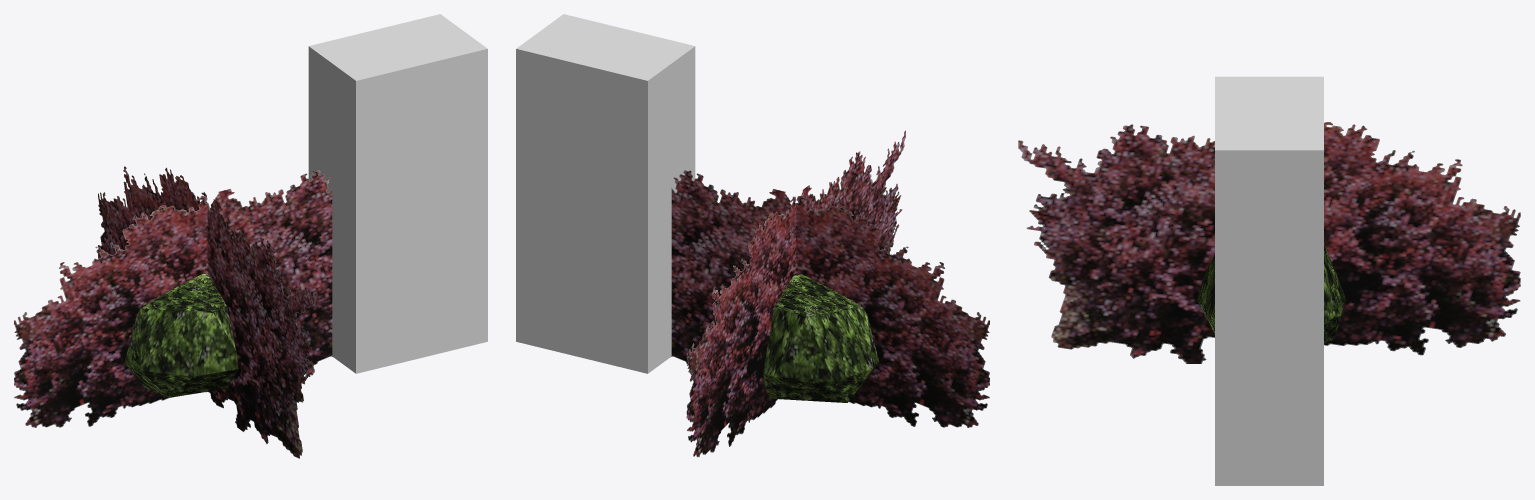
Rendered from bush3.fbx.
3 renders of one model, left to right at view 1: azimuth 30°, elevation 25°; view 2: azimuth 150°, elevation 25°; view 3: azimuth 270°, elevation 25°, orthographic. The views are drawn at different scales.
Visible parts, largest first — view 1: Cube.001, Cube, Icosphere; view 2: Cube.001, Cube, Icosphere; view 3: Cube, Cube.001, Icosphere.
Boxes of the visible parts, box(x1,y1,x2,y2) form: Cube.001: box(308, 14, 487, 373); Cube: box(14, 166, 332, 458); Icosphere: box(124, 273, 238, 397); Cube.001: box(516, 14, 695, 373); Cube: box(671, 130, 989, 457); Icosphere: box(763, 273, 879, 402); Cube: box(1018, 122, 1520, 363); Cube.001: box(1215, 76, 1323, 485); Icosphere: box(1197, 243, 1345, 342).
Size of the model in its own units: 273 by 181 by 231.
2 materials, 2 textured.
